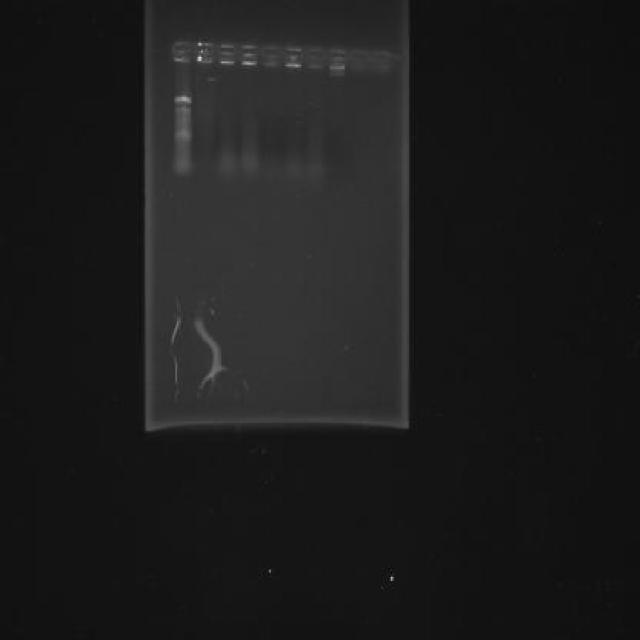L: (169, 36, 406, 84)
M: (170, 84, 196, 180)
P: (174, 158, 192, 177), (172, 129, 192, 142), (173, 94, 193, 106)
Pc: (370, 45, 393, 78), (348, 47, 368, 76), (328, 48, 347, 78), (306, 44, 326, 72), (240, 42, 260, 67), (172, 40, 191, 65), (262, 43, 281, 68), (194, 42, 213, 64), (218, 43, 236, 65), (284, 46, 302, 68)
